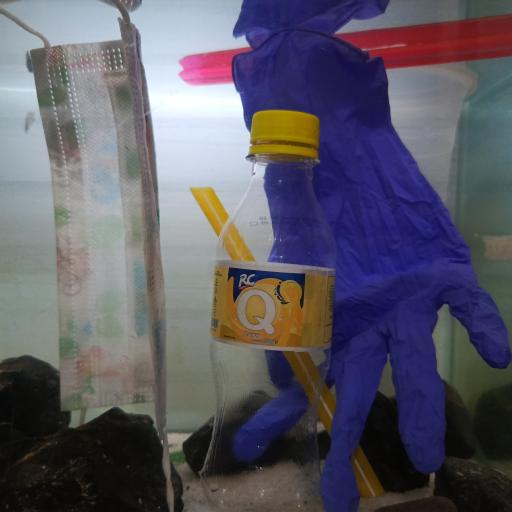bottle_cap: (251, 109, 320, 148)
glove: (231, 28, 511, 512)
mask: (0, 0, 169, 431)
plastic_bottle: (198, 110, 336, 512)
plastic_straw: (193, 184, 386, 494), (177, 31, 512, 87)
